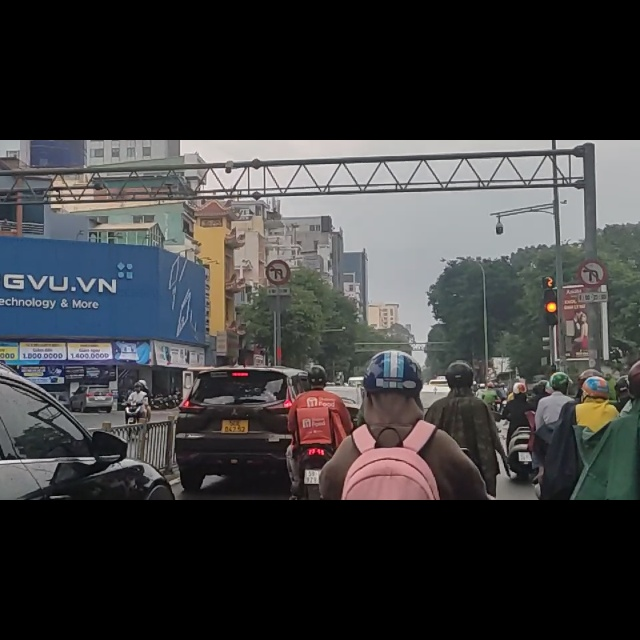bien_cam: (579, 216, 606, 263), (266, 212, 293, 257)
